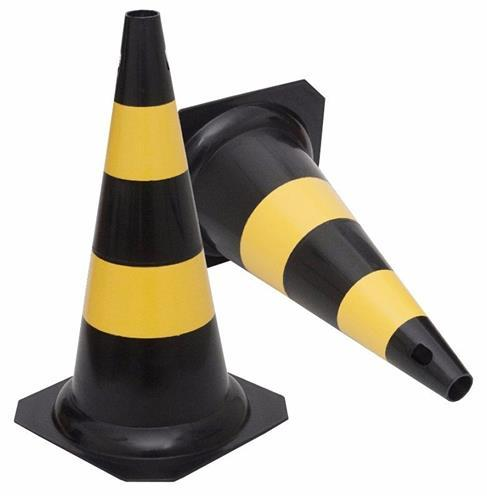traffic_cone: (14, 8, 288, 482)
